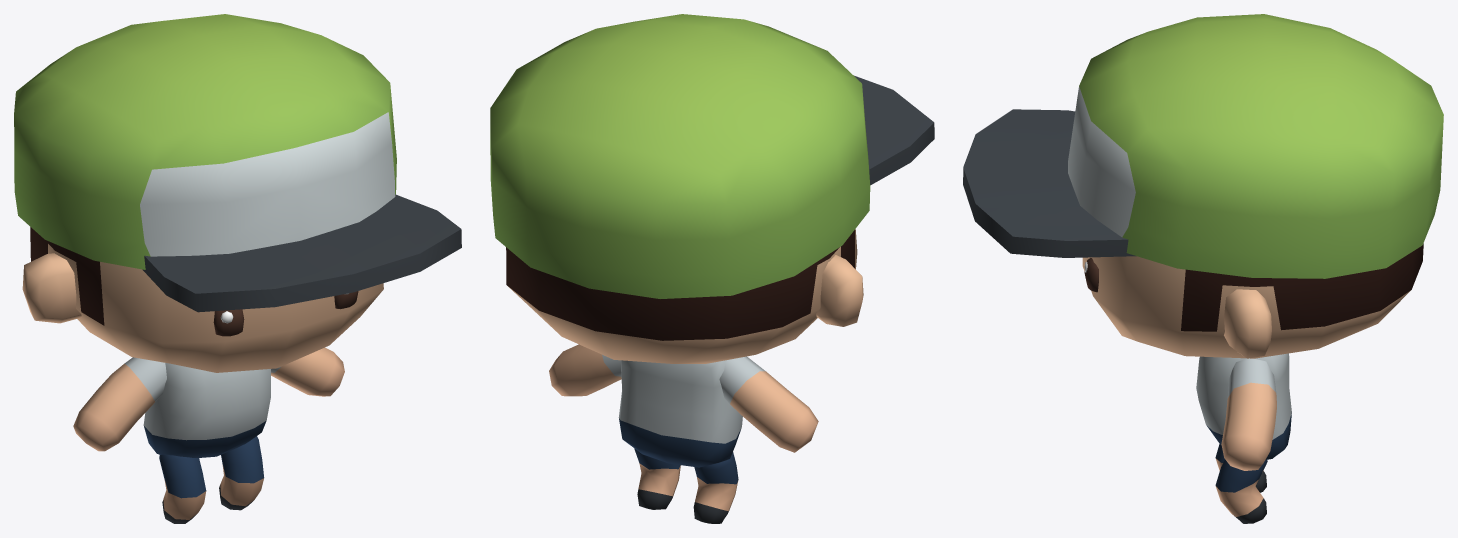
The model's file is jump_0050.obj.
The picture shows the model from 3 angles, left to right: view 1: azimuth 30°, elevation 25°; view 2: azimuth 150°, elevation 25°; view 3: azimuth 270°, elevation 25°; orthographic projection.
Visible parts, largest first — view 1: Object_41, Object_42, Object_44, Object_36, Object_38; view 2: Object_41, Object_44, Object_36, Object_42; view 3: Object_41, Object_36, Object_42, Object_44.
Boxes of the visible parts, <box> form: Object_41: <box>14,14,396,269</box>; Object_42: <box>140,112,461,312</box>; Object_44: <box>73,347,344,523</box>; Object_36: <box>22,227,383,372</box>; Object_38: <box>213,291,358,336</box>; Object_41: <box>490,14,870,298</box>; Object_44: <box>549,344,818,523</box>; Object_36: <box>506,229,863,363</box>; Object_42: <box>854,75,934,185</box>; Object_41: <box>1079,14,1443,278</box>; Object_36: <box>1082,243,1423,358</box>; Object_42: <box>963,86,1136,257</box>; Object_44: <box>1196,353,1291,523</box>.
Bounding box in the file's own units: 0.9691 × 1.2 × 1.13.
